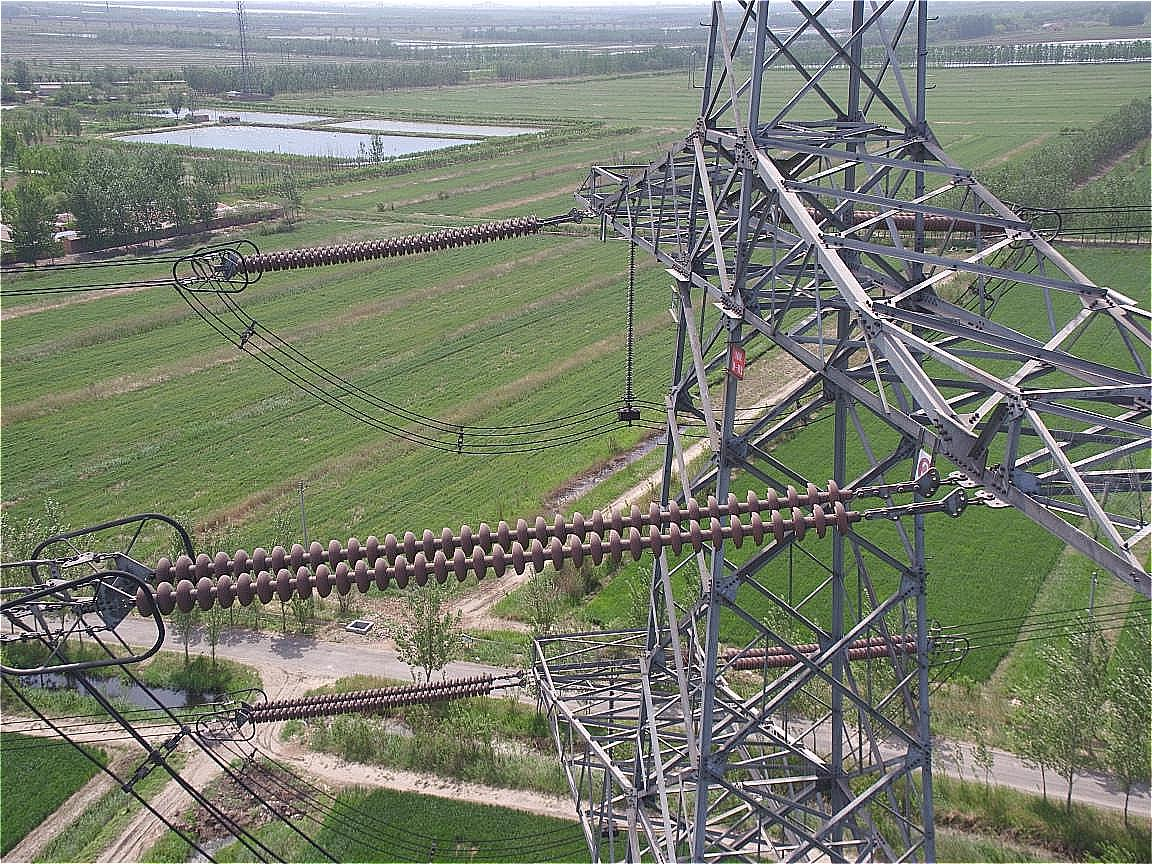insultor1: (131, 479, 847, 619)
insultor2: (237, 210, 540, 279), (250, 673, 498, 730)
